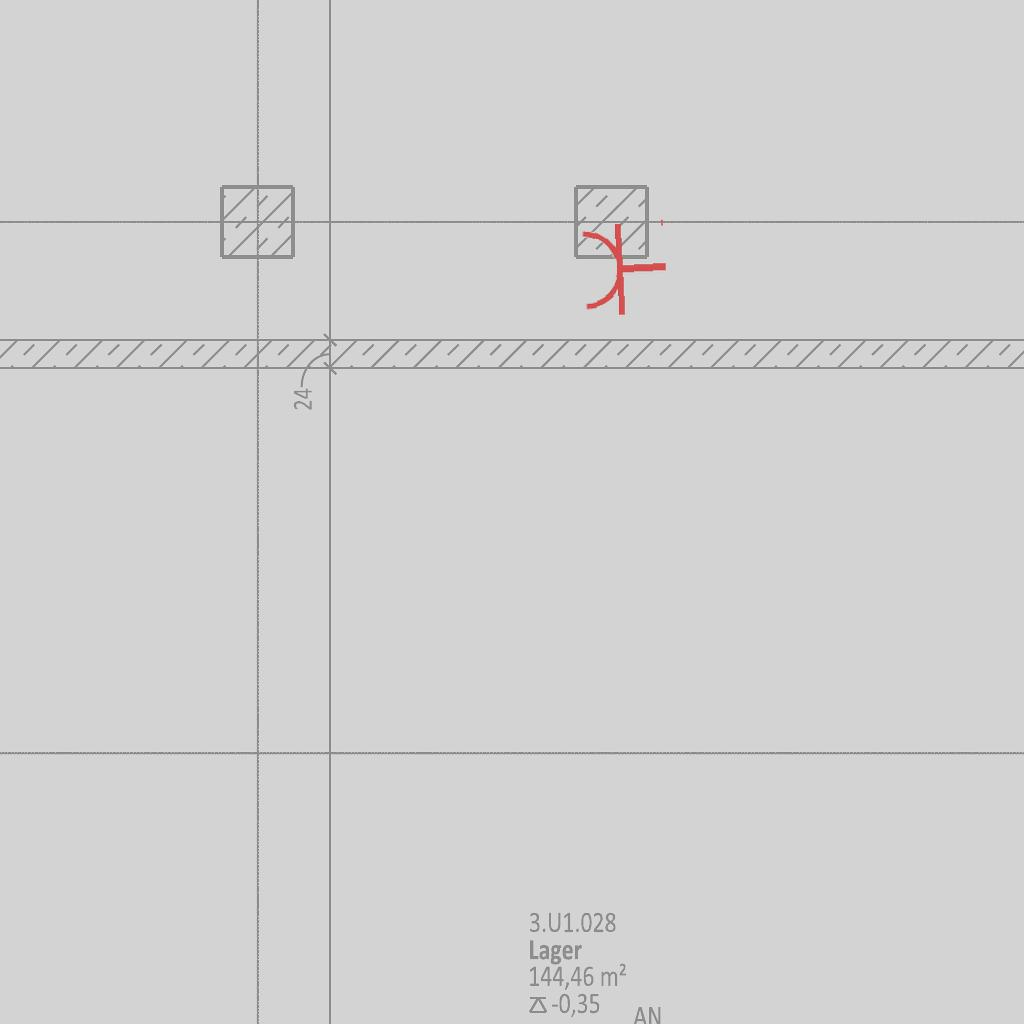Schukosteckdose_einfach: (578, 214, 671, 320)
